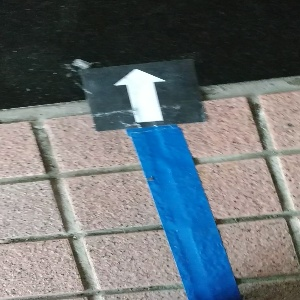straight: (78, 58, 208, 130)
